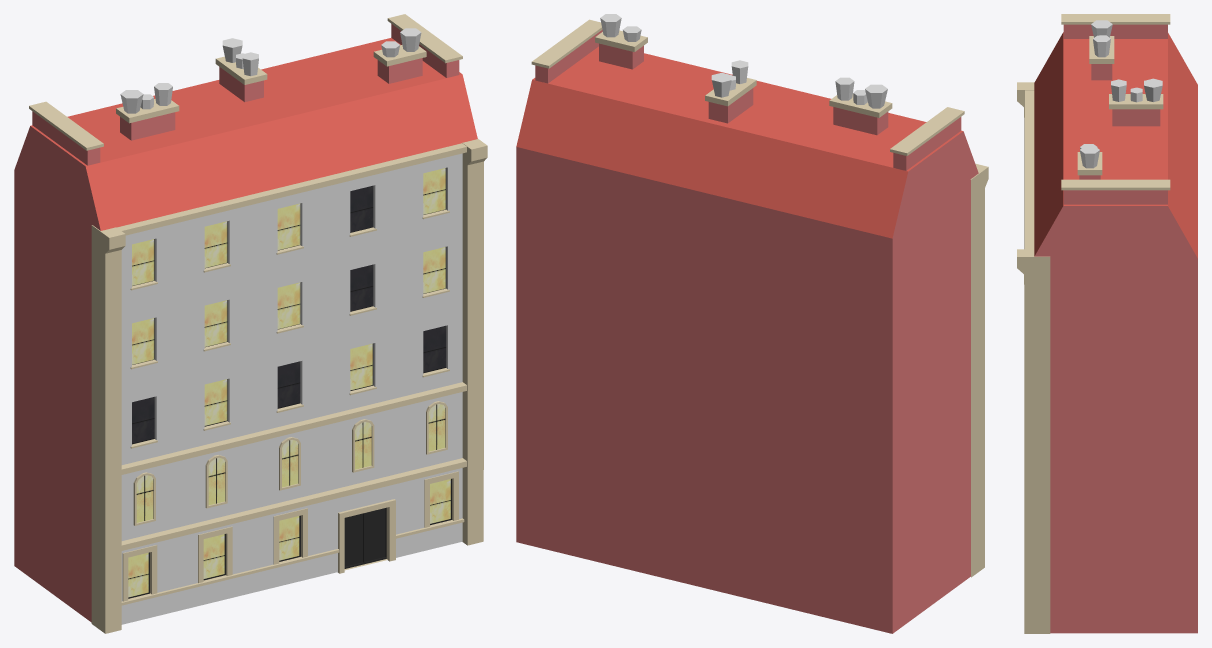
File: Bloc_Place_04.fbx
3 renders of one model, left to right at view 1: azimuth 30°, elevation 25°; view 2: azimuth 150°, elevation 25°; view 3: azimuth 270°, elevation 25°, orthographic. The views are drawn at different scales.
Visible parts, largest first — view 1: Bloc_Place_04; view 2: Bloc_Place_04; view 3: Bloc_Place_04.
Boxes of the visible parts, x1=… form: Bloc_Place_04: x1=14, y1=14, x2=487, y2=633; Bloc_Place_04: x1=516, y1=14, x2=988, y2=633; Bloc_Place_04: x1=1017, y1=14, x2=1197, y2=633.
Bounding box in the file's own units: 659 × 1876 × 1505.
